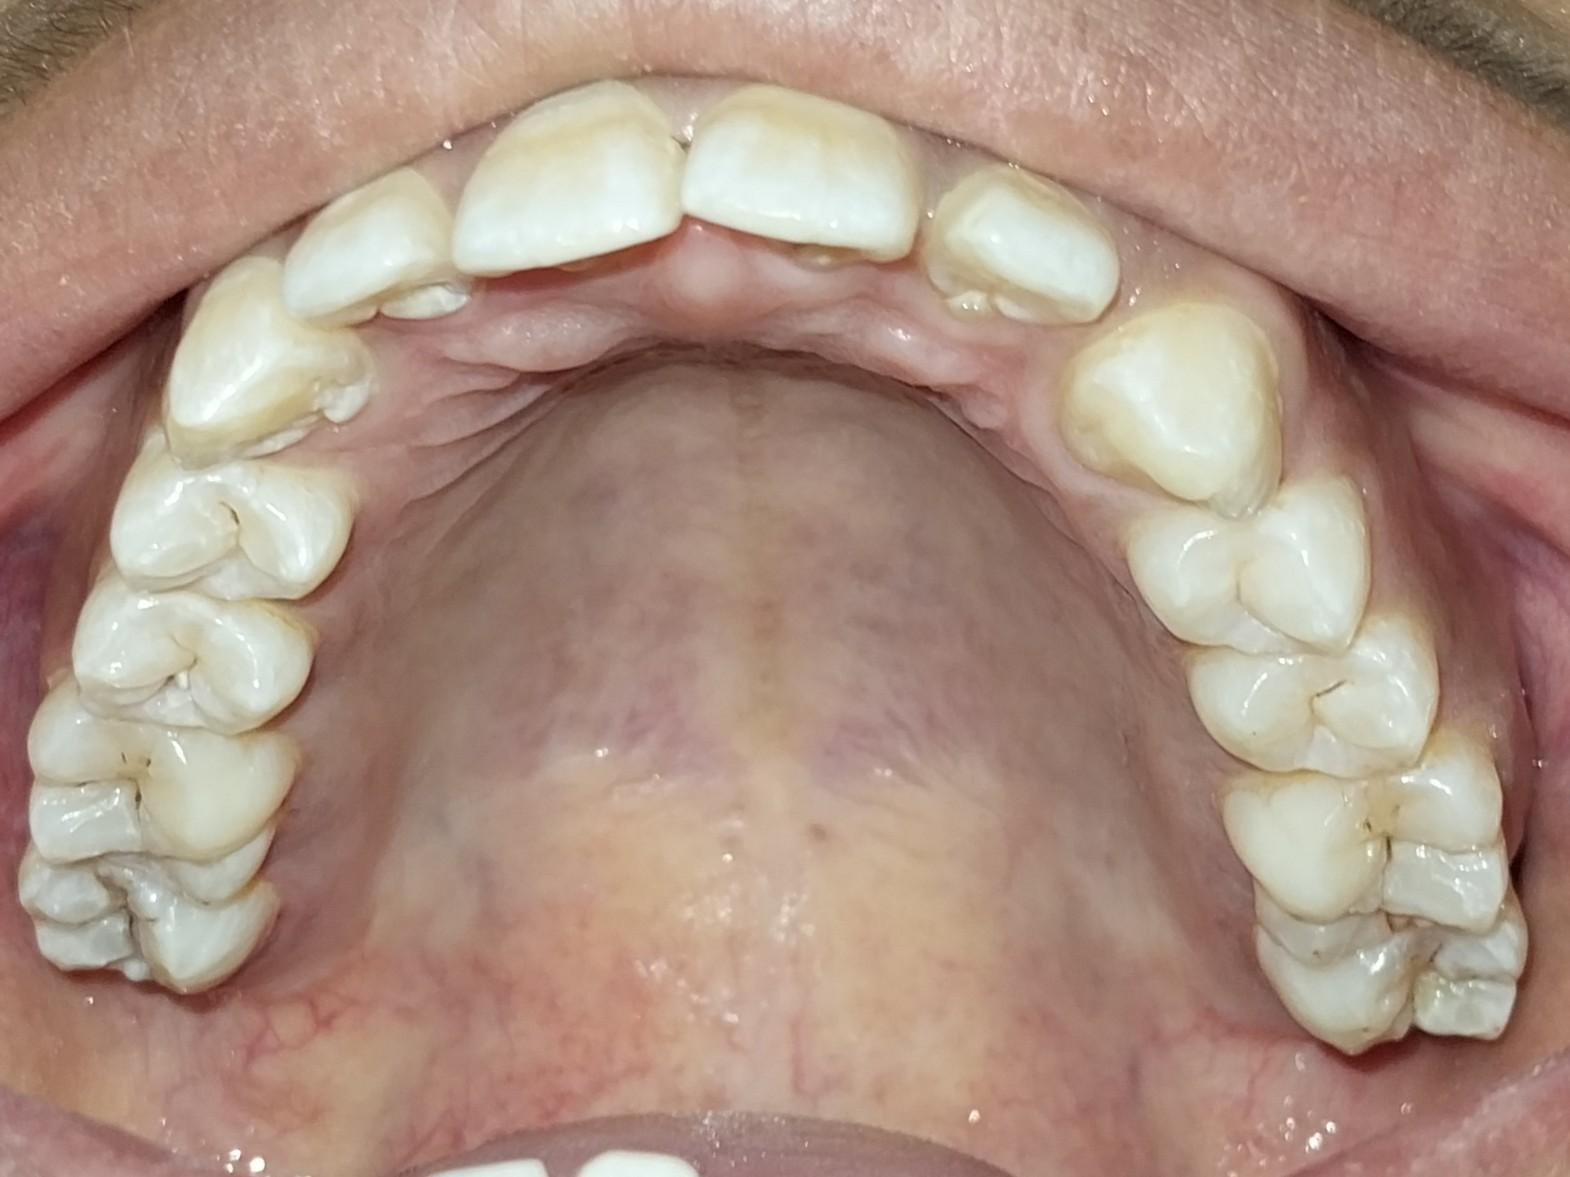D: (1224, 732, 1504, 939), (28, 687, 287, 906), (1259, 911, 1530, 1059), (114, 445, 359, 604), (68, 575, 315, 732), (13, 845, 277, 992)
